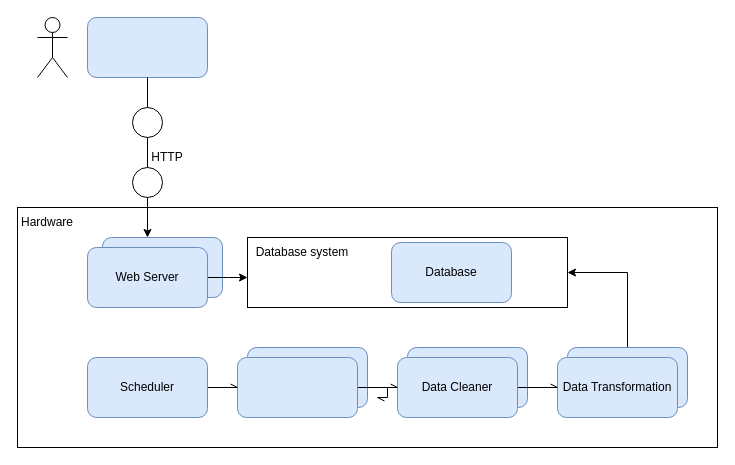
Some shapes in this 735 by 465 pixel diagram are drawn without their labels. The centre of each missing label's shape, as x and y in pixels:
"Scraper" goes at pixel 297 387.
"Web Browser" goes at pixel 147 47.
